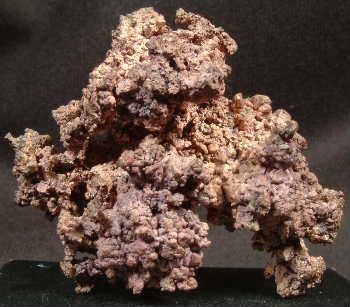copper: (6, 8, 343, 298)
